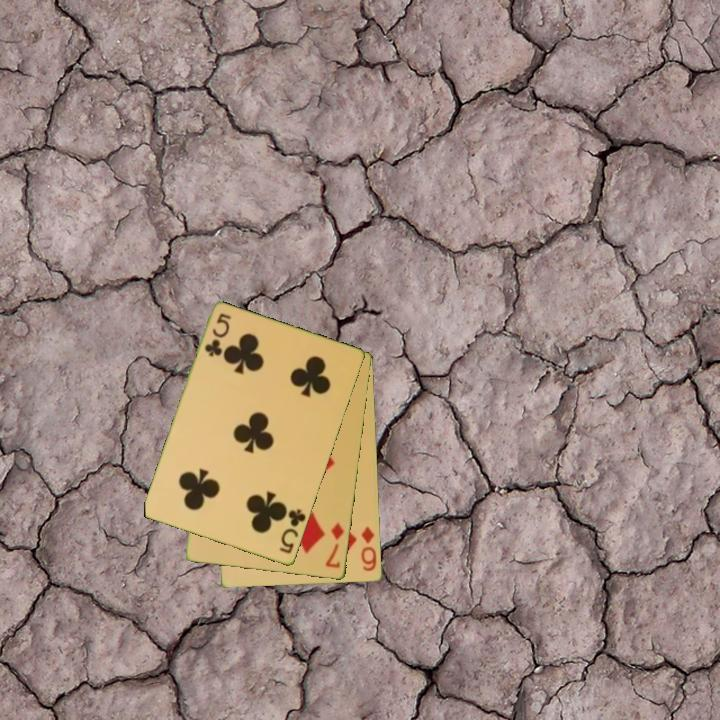5c: (276, 505, 309, 557), (201, 310, 234, 360)
6d: (358, 523, 380, 574)
7d: (322, 519, 347, 571)
